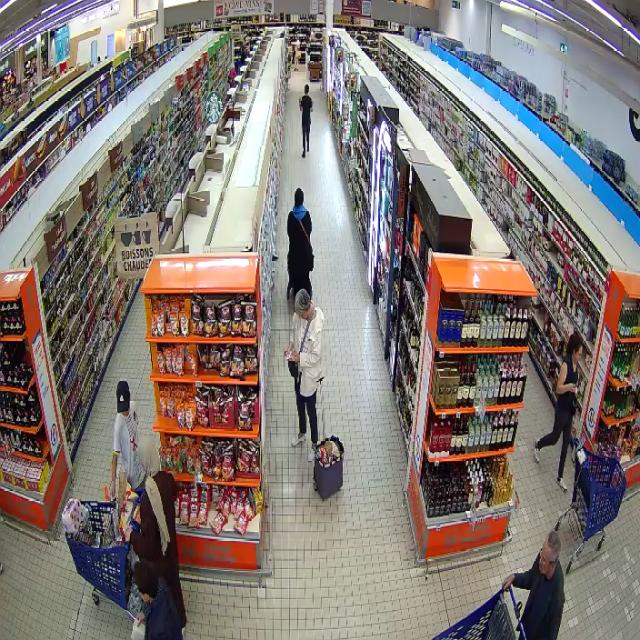article: (286, 350, 294, 360)
hands: (501, 574, 513, 590), (568, 383, 577, 393), (289, 354, 299, 362), (284, 349, 289, 355)
person: (129, 438, 185, 631), (535, 332, 582, 490), (285, 289, 324, 460), (503, 530, 564, 639), (112, 380, 148, 497), (134, 560, 181, 639), (287, 188, 314, 298)
